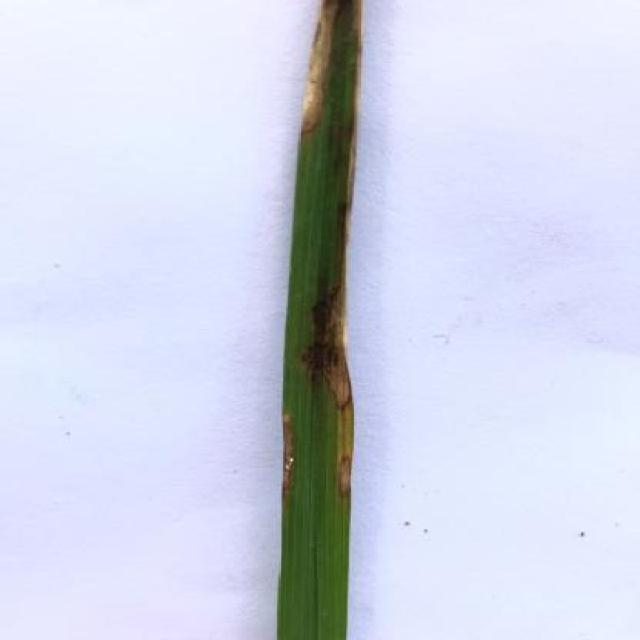Brown_Spot: (275, 0, 371, 640)
